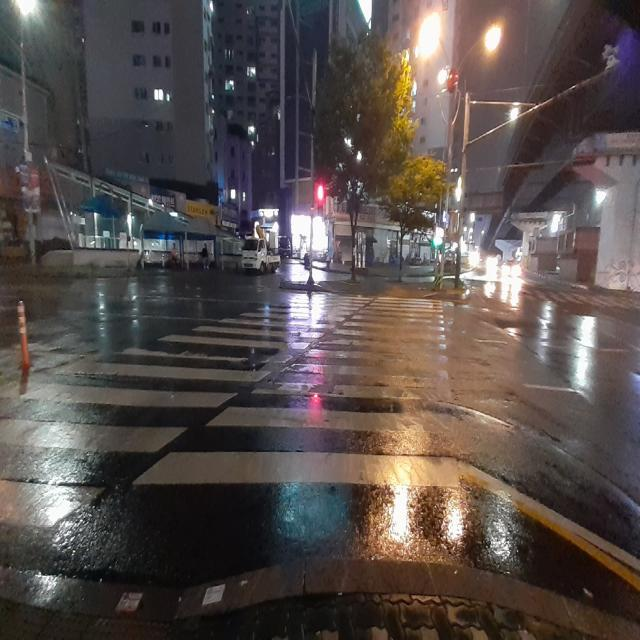빨간불: (315, 175, 325, 201)
횡단보도: (0, 292, 460, 529)
